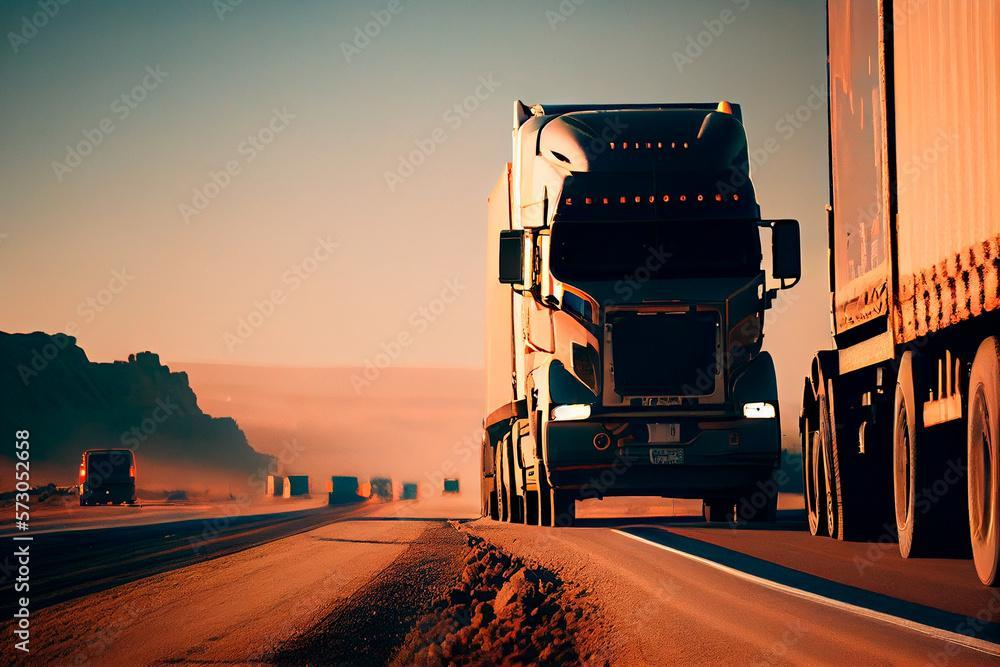truck: (427, 80, 798, 537)
